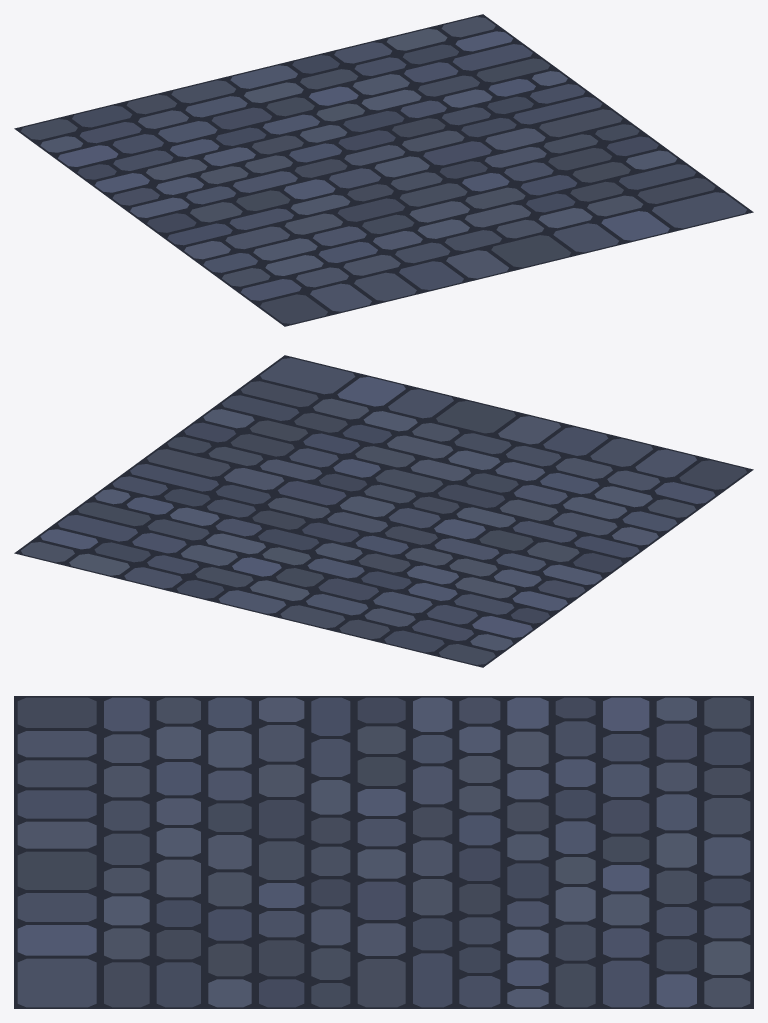
File: floorTile.glb
3 renders of one model, top to bottom at view 1: azimuth 30°, elevation 25°; view 2: azimuth 150°, elevation 25°; view 3: azimuth 270°, elevation 25°, orthographic. The views are drawn at different scales.
Parts seen in each view (by area): view 1: lit; view 2: lit; view 3: lit.
Part boxes in pixels (x1,y1,x2,y2): lit: [14, 14, 753, 326]; lit: [14, 355, 753, 667]; lit: [14, 696, 753, 1008].
Size of the model in its own units: 6.75 by 0 by 6.75.
